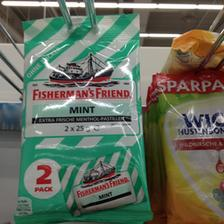Suessigkeit: (21, 14, 147, 222), (151, 68, 223, 220)
